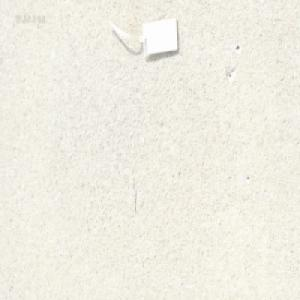LuggageTag: (105, 15, 179, 62)
